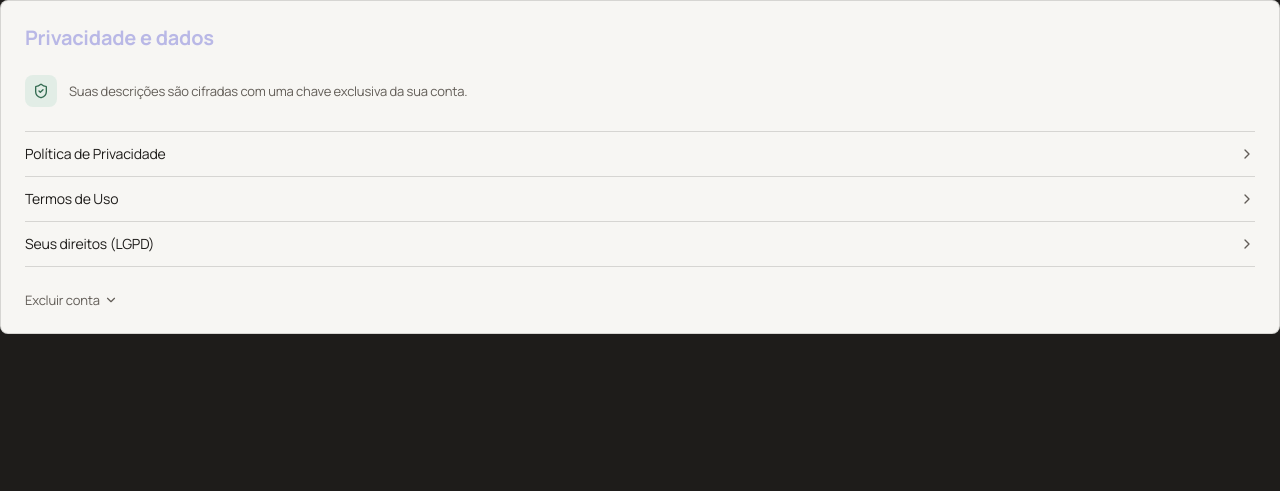
Test: DeleteAccount › keeps the account and says why when the password is wrong
Click the button "Excluir conta" at (71, 300), box [25,291,118,309]
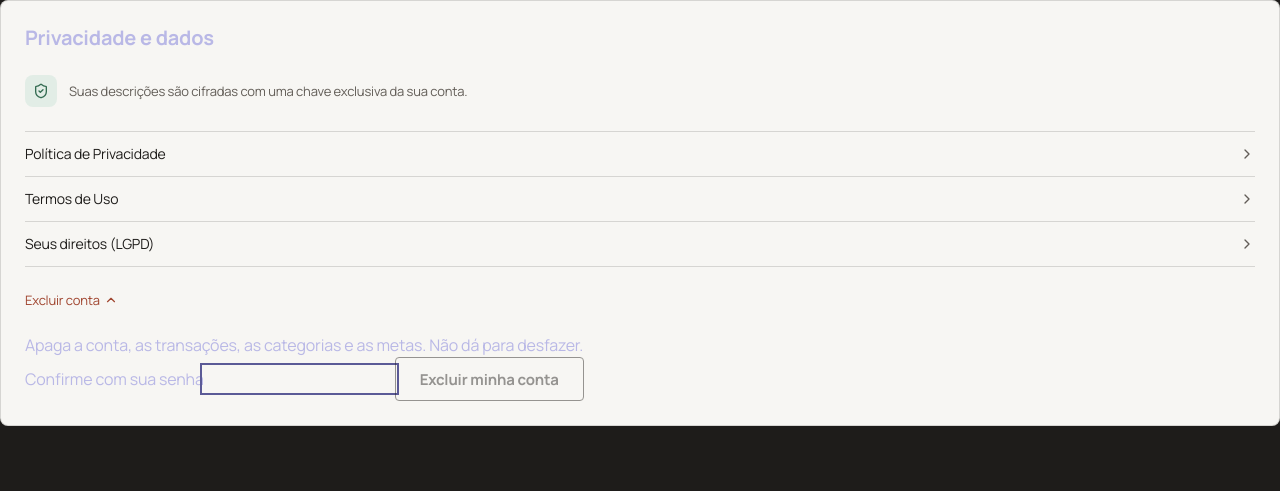
Type "errada" into the password field labelled "Confirme com sua senha" at (299, 378), box [204,366,395,390]
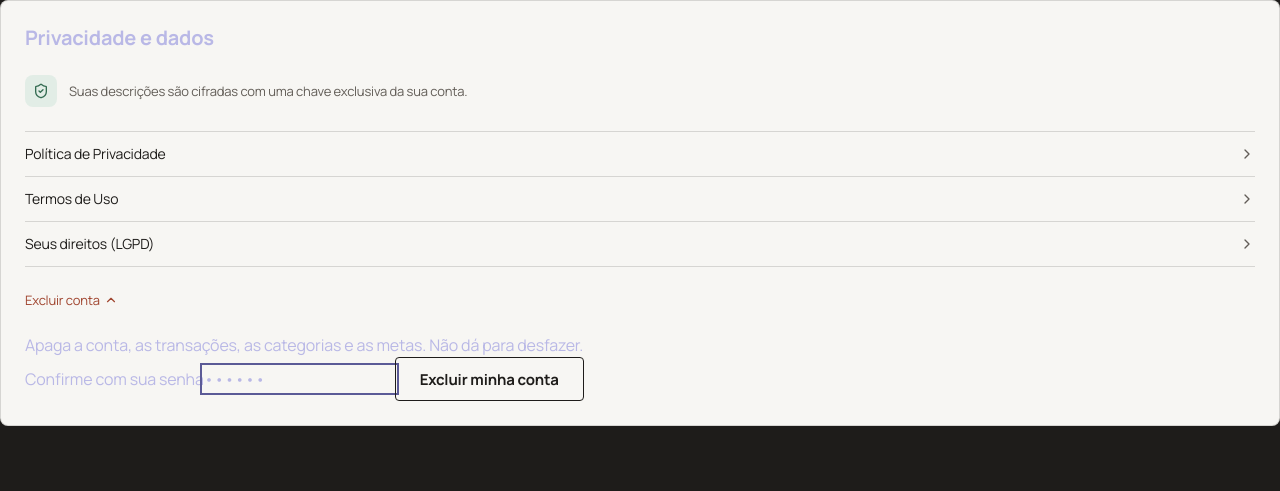
Click the button "Excluir minha conta" at (489, 379), box [395,357,584,401]
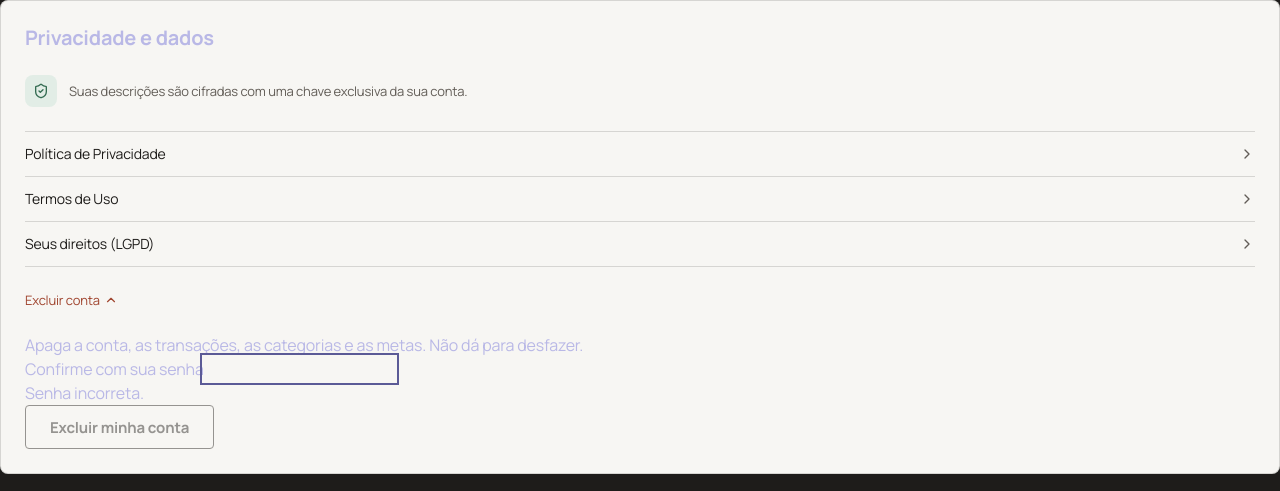
expect the message reads "Senha incorreta.": met, box [25,382,144,404]
